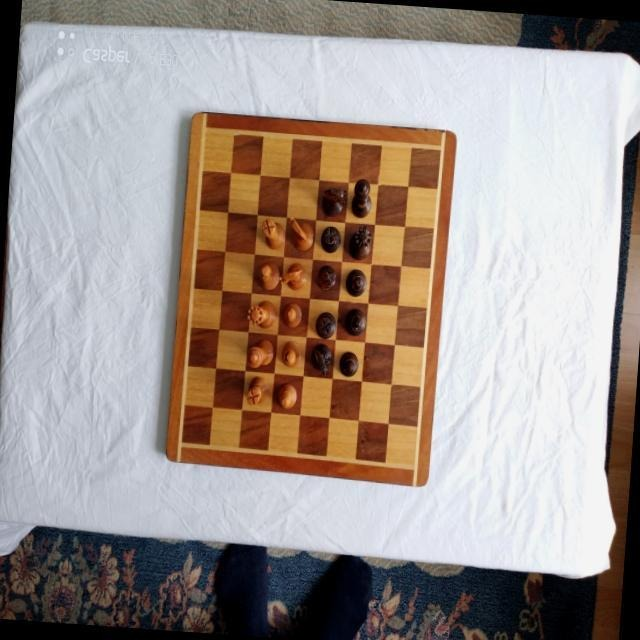black-bishop: (343, 307, 366, 337), (344, 267, 367, 296)
black-king: (350, 178, 373, 218)
black-knight: (320, 186, 346, 218), (310, 342, 332, 375)
black-pawn: (316, 264, 336, 292), (338, 351, 358, 377)
black-queen: (348, 224, 372, 260)
black-rook: (319, 225, 341, 253), (314, 312, 336, 340)
white-bishop: (256, 262, 280, 290), (280, 340, 302, 367)
white-king: (246, 338, 274, 369)
white-knight: (286, 216, 314, 251), (278, 260, 307, 289)
white-pawn: (275, 382, 297, 409), (282, 302, 302, 327)
white-queen: (247, 298, 277, 330)
white-rook: (259, 217, 285, 250), (246, 374, 270, 405)
